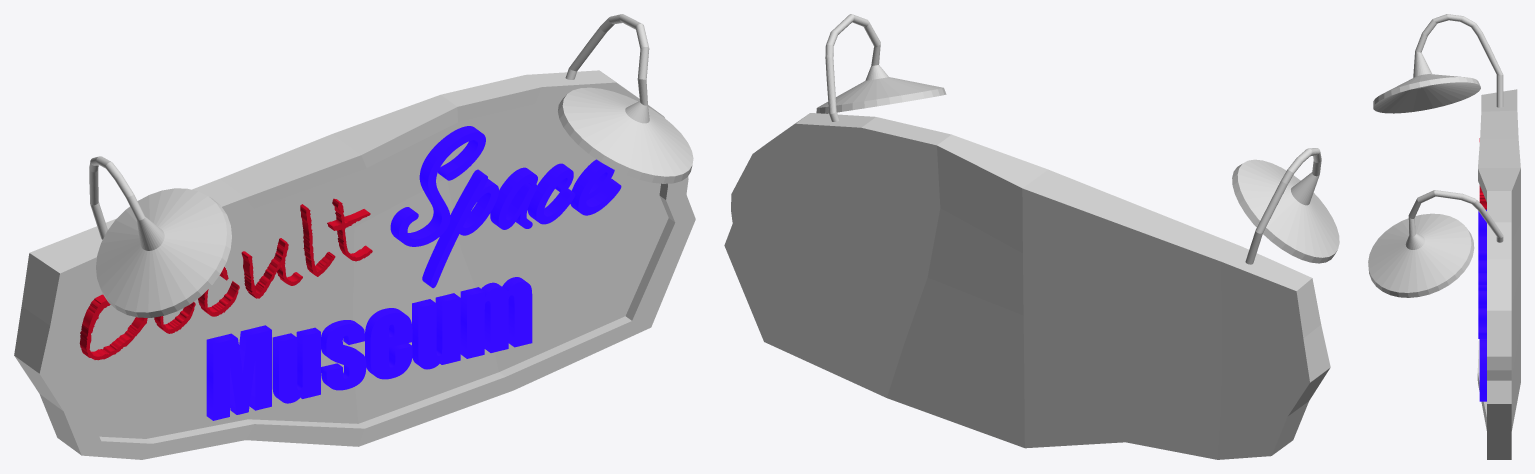
Rendered from OccultSpaceMuseum.glb.
3 views of the same model, side by side, from view 1: azimuth 30°, elevation 25°; view 2: azimuth 150°, elevation 25°; view 3: azimuth 270°, elevation 25° (orthographic). The views are drawn at different scales.
Visible parts, largest first — view 1: Cube, Text.002, Cylinder.001, Text, Cylinder, Text.001; view 2: Cube, Cylinder.001, Cylinder; view 3: Cube, Cylinder, Cylinder.001, Text, Text.002.
Boxes of the visible parts, x1,y1,x2,y2 form: Cube: (14,70,695,459); Text.002: (206,277,532,420); Cylinder.001: (89,156,231,317); Text: (390,126,621,288); Cylinder: (558,14,693,183); Text.001: (79,198,372,360); Cube: (724,113,1330,459); Cylinder.001: (1232,148,1339,264); Cylinder: (816,14,946,121); Cube: (1477,89,1520,459); Cylinder: (1368,190,1503,297); Cylinder.001: (1373,14,1503,113); Text: (1478,209,1486,338); Text.002: (1479,339,1486,401).
Size of the model in its own units: 7.82 by 4.33 by 2.11.
